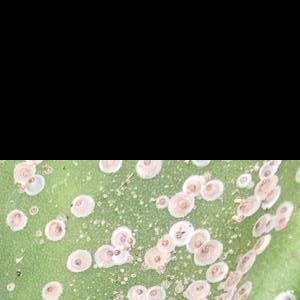Femea: (170, 194, 189, 216), (195, 242, 215, 261), (42, 220, 62, 238), (20, 177, 44, 192), (5, 211, 24, 229), (170, 224, 188, 242), (183, 179, 202, 196), (69, 197, 90, 212), (115, 230, 134, 246), (203, 180, 221, 196), (40, 285, 60, 299), (157, 236, 175, 251), (252, 215, 267, 233), (258, 163, 275, 178), (100, 245, 115, 262), (150, 251, 167, 266), (239, 253, 253, 271), (207, 266, 226, 279), (146, 286, 166, 298), (235, 174, 250, 189), (109, 248, 123, 264), (71, 254, 86, 268), (130, 283, 144, 298), (255, 235, 268, 251), (237, 199, 252, 212), (192, 283, 207, 296), (189, 234, 202, 247), (278, 202, 287, 215), (156, 195, 167, 205)
Linfa: (98, 188, 116, 206), (88, 217, 104, 235), (116, 178, 132, 195), (111, 206, 125, 221), (128, 187, 140, 204), (145, 221, 159, 235), (131, 210, 141, 223)
